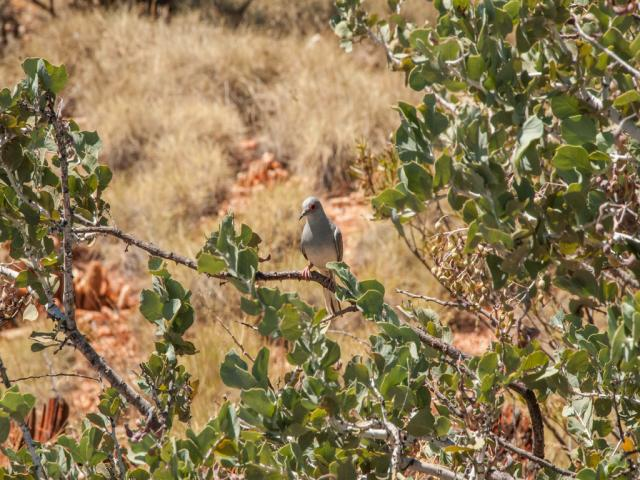Bird: (300, 194, 340, 320)
